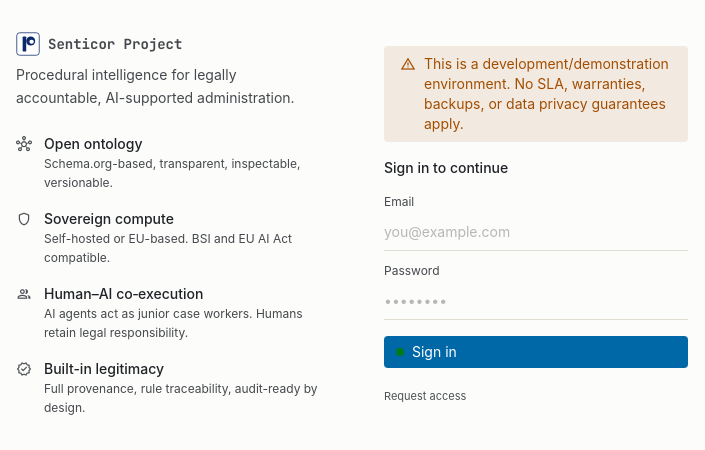
Test case: LoginPage › displays error when login fails with 401
Type "test@example.com" into the field labelled "Email".
click(536, 232); type("test@example.com")  # box [384,214,688,251]
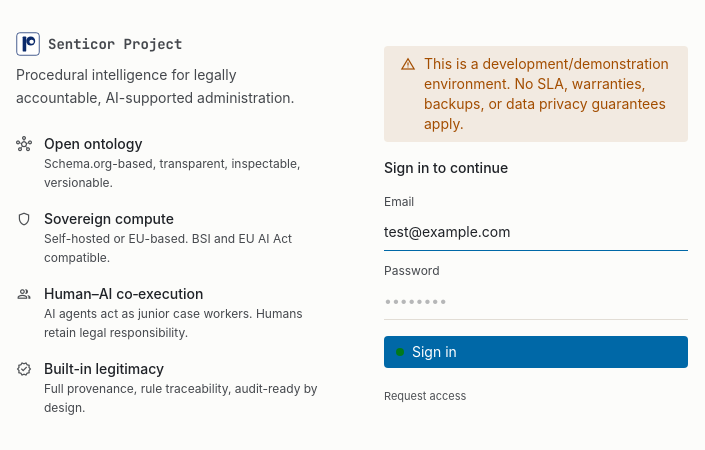
Type "wrongpass" into the password field labelled "Password".
click(536, 301); type("wrongpass")  # box [384,283,688,320]
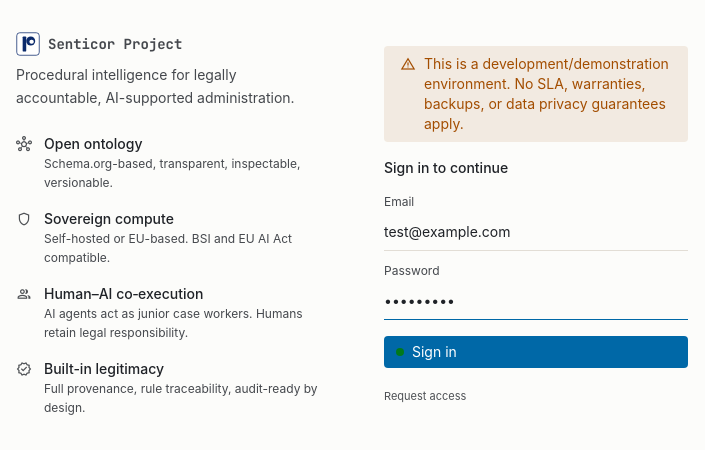
Click the button "Sign in".
click(434, 351)  # box [384,336,688,368]
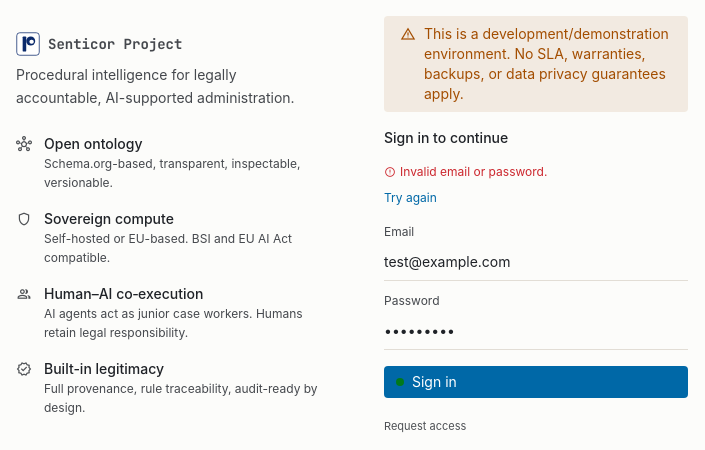
Expected: the message "Invalid email or password." is shown, [400,164,547,180]
